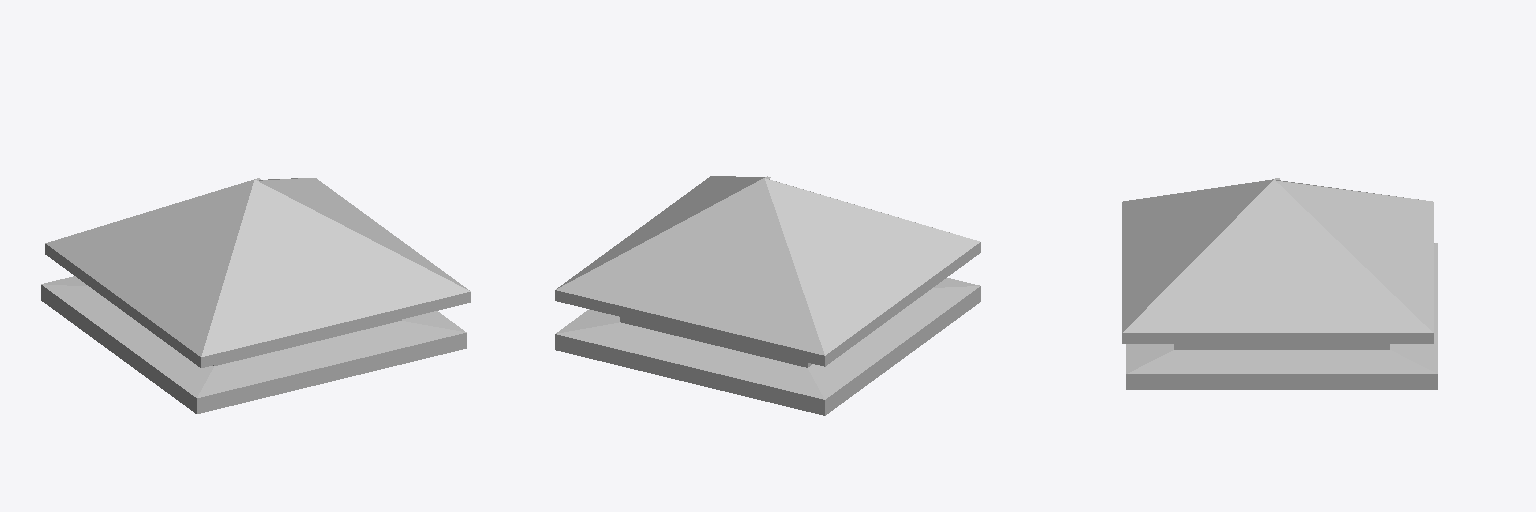
The model's file is roof2.obj.
The picture shows the model from 3 angles: view 1: azimuth 30°, elevation 25°; view 2: azimuth 150°, elevation 25°; view 3: azimuth 270°, elevation 25°; orthographic projection.
Visible parts, largest first — view 1: Cube.002_Cube.001; view 2: Cube.002_Cube.001; view 3: Cube.002_Cube.001.
Part boxes in pixels (left/top/right/bottom): Cube.002_Cube.001: left=41, top=178, right=470, bottom=413; Cube.002_Cube.001: left=555, top=176, right=980, bottom=415; Cube.002_Cube.001: left=1122, top=178, right=1437, bottom=389.
Size of the model in its own units: 2.56 by 1.39 by 2.58.